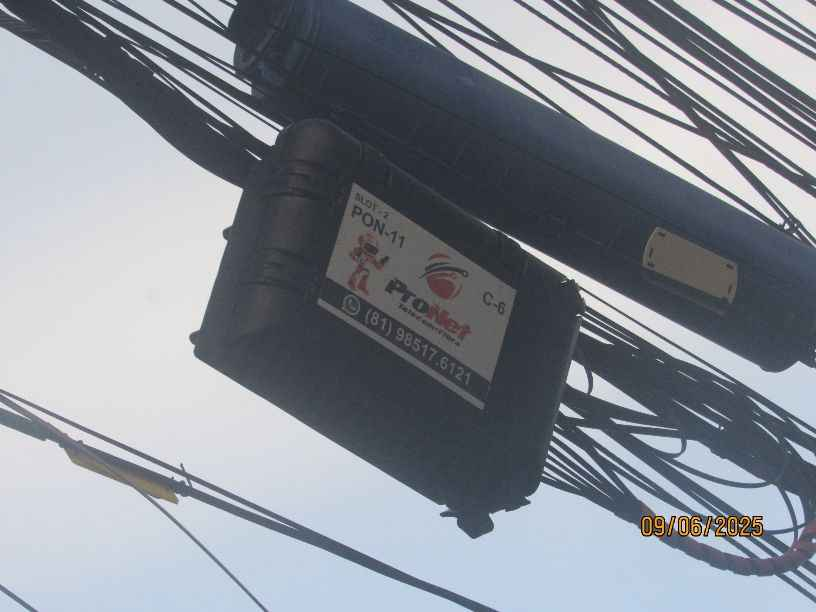caixa_derivacao: (152, 96, 647, 550)
